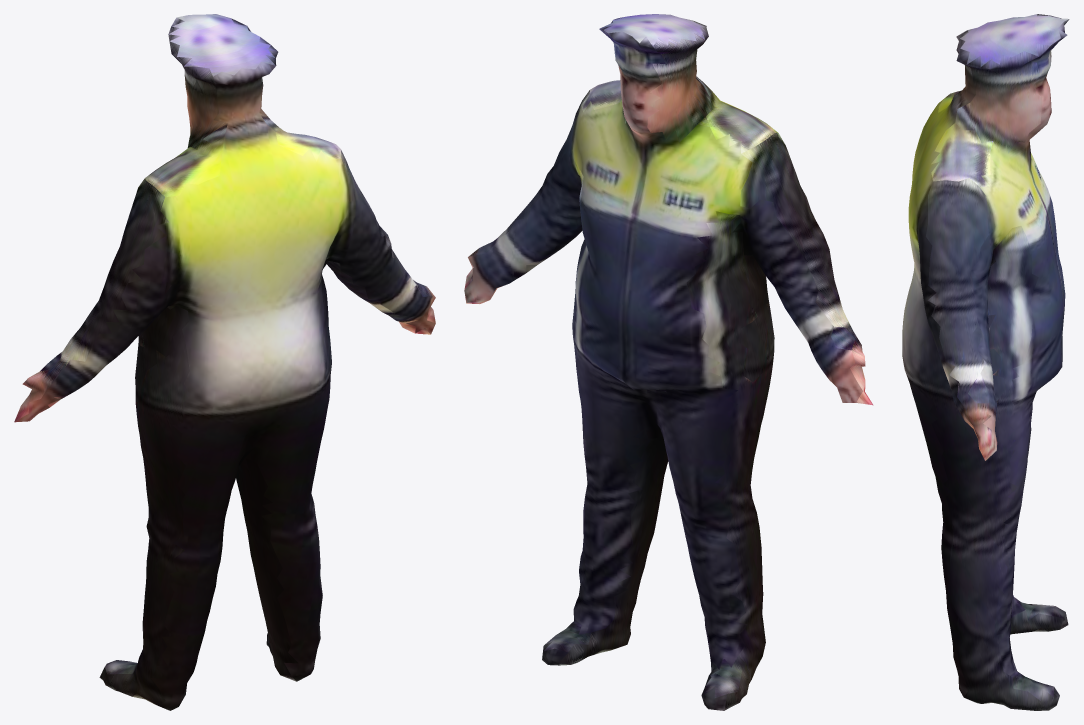
3 renders of one model, left to right at view 1: azimuth 30°, elevation 25°; view 2: azimuth 150°, elevation 25°; view 3: azimuth 270°, elevation 25°, orthographic.
Parts seen in each view (by area): view 1: world; view 2: world; view 3: world.
Boxes of the visible parts, x1,y1,x2,y2 form: world: (14,14,435,710); world: (464,14,873,710); world: (902,14,1069,710).
Size of the model in its own units: 0.6659 by 1 by 0.2353.
1 material, 1 textured.
